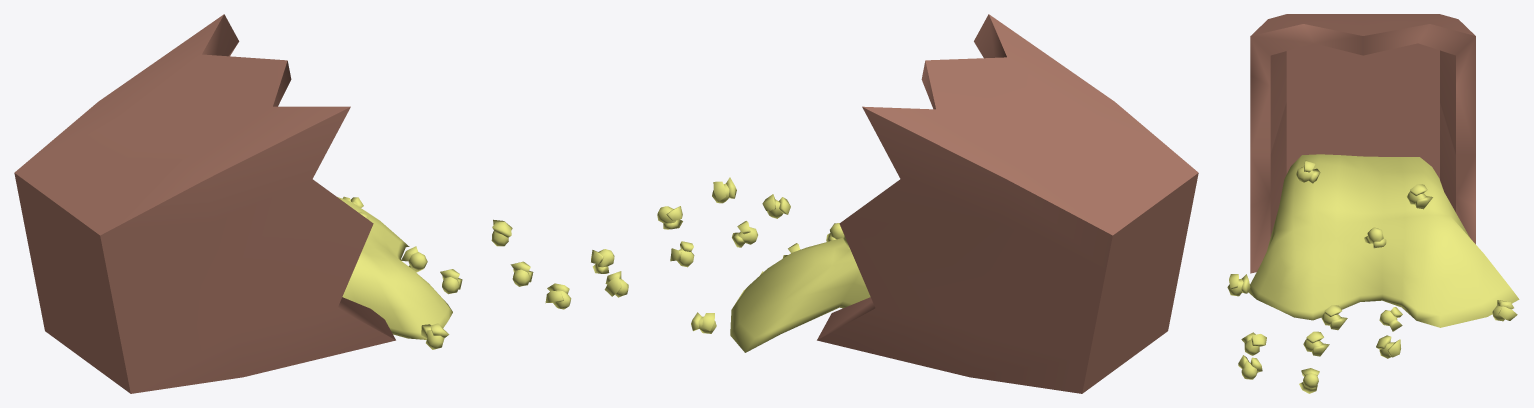
File: ppcrnbucketspilt.fbx
The picture shows the model from 3 angles, left to right: view 1: azimuth 30°, elevation 25°; view 2: azimuth 150°, elevation 25°; view 3: azimuth 270°, elevation 25°; orthographic projection. The views are drawn at different scales.
Visible parts, largest first — view 1: bucket1, popcornblob; view 2: bucket1, popcornblob, pasted__pasted__pasted__pasted__pasted__pCube9, pasted__pasted__pasted__pasted__pCube9; view 3: bucket1, popcornblob, pasted__pasted__pasted__pasted__pCube9 (×3), pasted__pasted__pasted__pasted__pasted__pCube9 (×2), pasted__pasted__pasted__pCube9, pasted__pasted__pCube9, pasted__pasted__pasted__pCube11, pasted__pasted__pasted__pCube10, pasted__pCube9, pasted__pasted__pCube10, pasted__pasted__pCube11.
Part boxes in pixels (box(x1,y1,x2,y2)): bucket1: box(14, 14, 395, 393); popcornblob: box(337, 197, 452, 339); bucket1: box(817, 14, 1198, 393); popcornblob: box(730, 237, 870, 352); pasted__pasted__pasted__pasted__pasted__pCube9: box(657, 206, 682, 229); pasted__pasted__pasted__pasted__pCube9: box(712, 177, 736, 203); bucket1: box(1250, 14, 1475, 273); popcornblob: box(1248, 154, 1519, 327); pasted__pasted__pasted__pasted__pCube9 (×3): box(1238, 307, 1402, 379); pasted__pasted__pasted__pasted__pasted__pCube9 (×2): box(1241, 332, 1319, 393); pasted__pasted__pasted__pCube9: box(1321, 305, 1347, 330); pasted__pasted__pCube9: box(1376, 335, 1400, 358); pasted__pasted__pasted__pCube11: box(1407, 184, 1432, 209); pasted__pasted__pasted__pCube10: box(1227, 274, 1250, 296); pasted__pCube9: box(1492, 300, 1517, 321); pasted__pasted__pCube10: box(1296, 160, 1320, 183); pasted__pasted__pCube11: box(1364, 227, 1386, 248).
Size of the model in its own units: 10.81 by 5.12 by 5.83.
